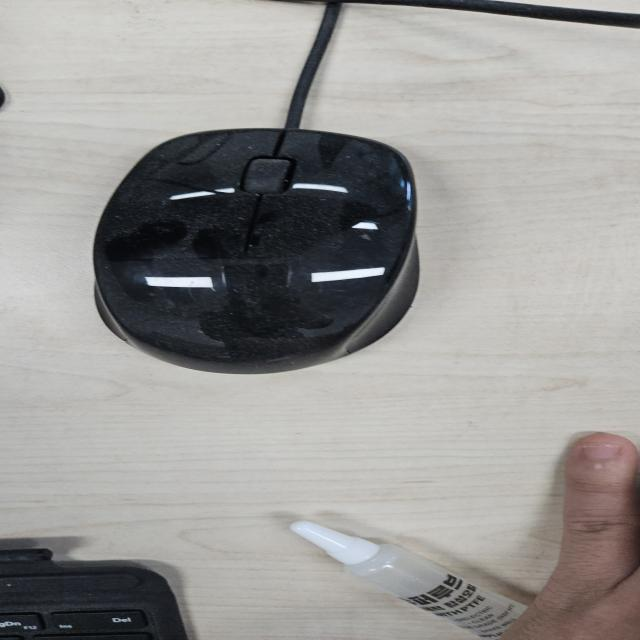Keyboard: (2, 546, 190, 638)
Mouse: (88, 125, 424, 375)
